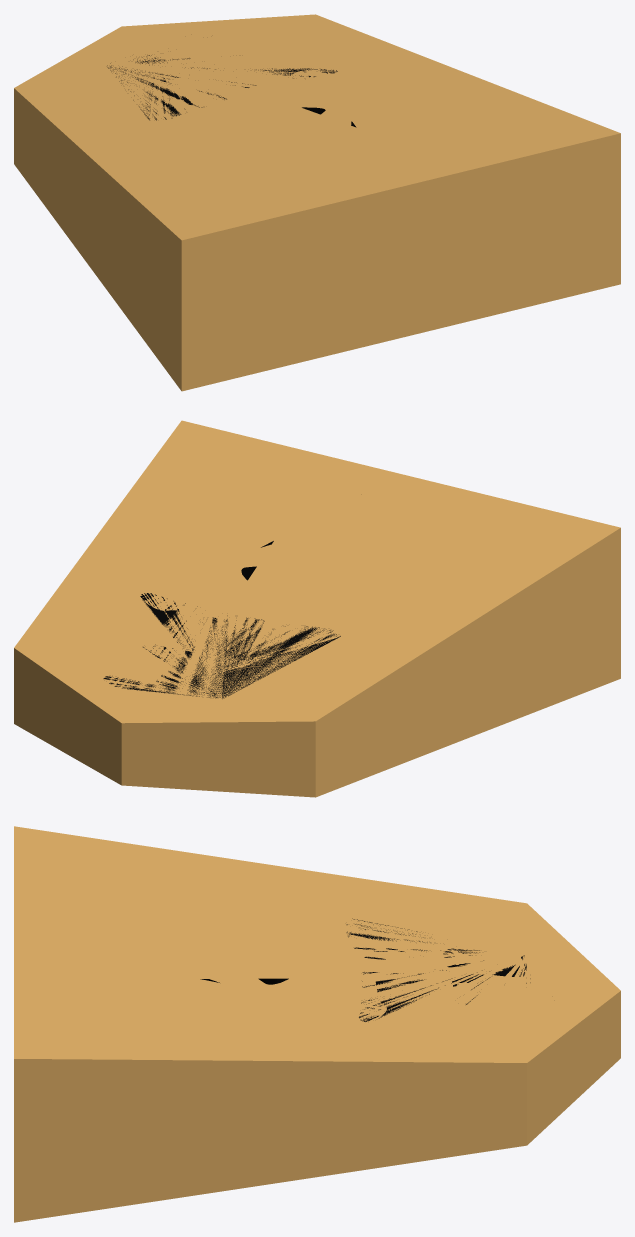
3 renders of one model, top to bottom at view 1: azimuth 30°, elevation 25°; view 2: azimuth 150°, elevation 25°; view 3: azimuth 270°, elevation 25°, orthographic. The views are drawn at different scales.
Parts seen in each view (by area): view 1: ou; view 2: ou; view 3: ou.
Boxes of the visible parts, x1,y1,x2,y2 form: ou: [14, 14, 620, 391]; ou: [14, 420, 620, 797]; ou: [14, 826, 620, 1222].
Bounding box in the file's own units: 0.728 × 0.2392 × 0.8029.
